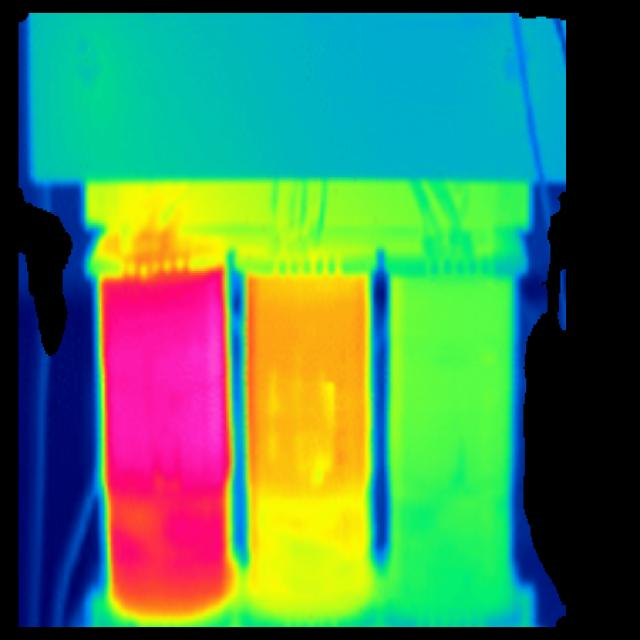Transformer Overload: (93, 233, 378, 618)
